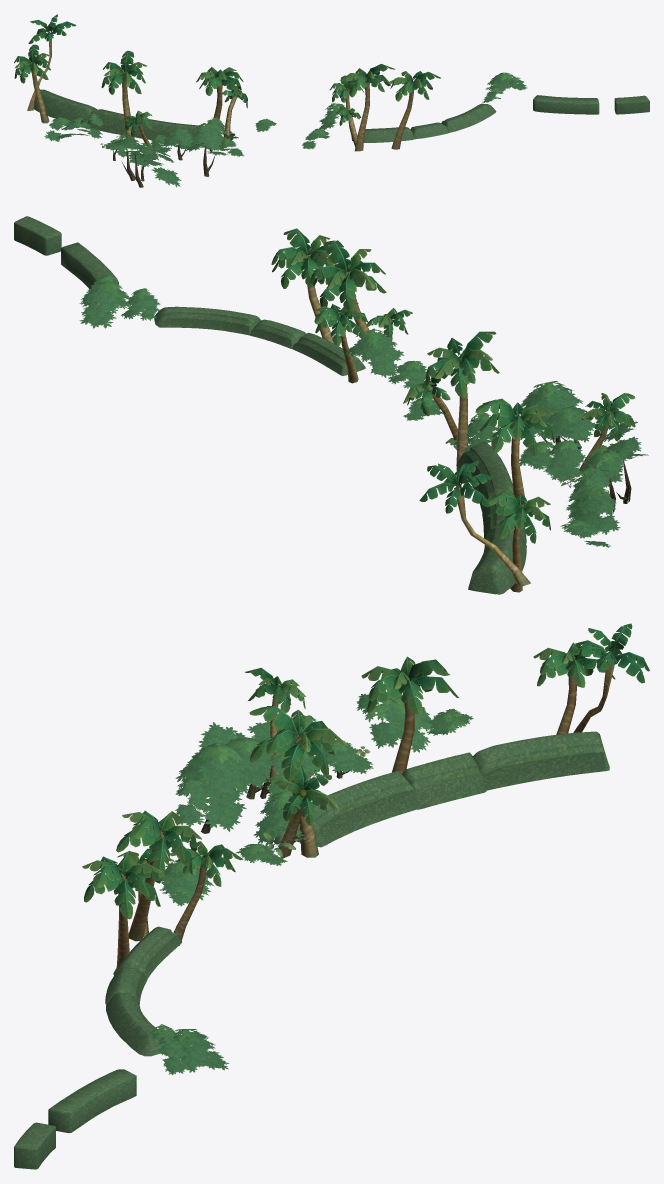
The model's file is pref_sm_4v4pointbake_CSD_R01_lv1.fbx.
3 views of the same model, one above another, from view 1: azimuth 30°, elevation 25°; view 2: azimuth 150°, elevation 25°; view 3: azimuth 270°, elevation 25° (orthographic). The views are drawn at different scales.
Parts seen in each view (by area): view 1: sm_4v4pointbake_CSD_R01_a_lv1, sm_4v4pointbake_CSD_R01_b_lv1; view 2: sm_4v4pointbake_CSD_R01_a_lv1, sm_4v4pointbake_CSD_R01_b_lv1; view 3: sm_4v4pointbake_CSD_R01_a_lv1, sm_4v4pointbake_CSD_R01_b_lv1.
Part boxes in pixels (<box>): sm_4v4pointbake_CSD_R01_a_lv1: <box>14,14,527,187</box>; sm_4v4pointbake_CSD_R01_b_lv1: <box>33,89,649,144</box>; sm_4v4pointbake_CSD_R01_a_lv1: <box>79,228,648,592</box>; sm_4v4pointbake_CSD_R01_b_lv1: <box>14,216,526,594</box>; sm_4v4pointbake_CSD_R01_a_lv1: <box>82,623,649,1074</box>; sm_4v4pointbake_CSD_R01_b_lv1: <box>14,731,609,1169</box>.
Size of the model in its own units: 51.39 by 9.53 by 31.58.
